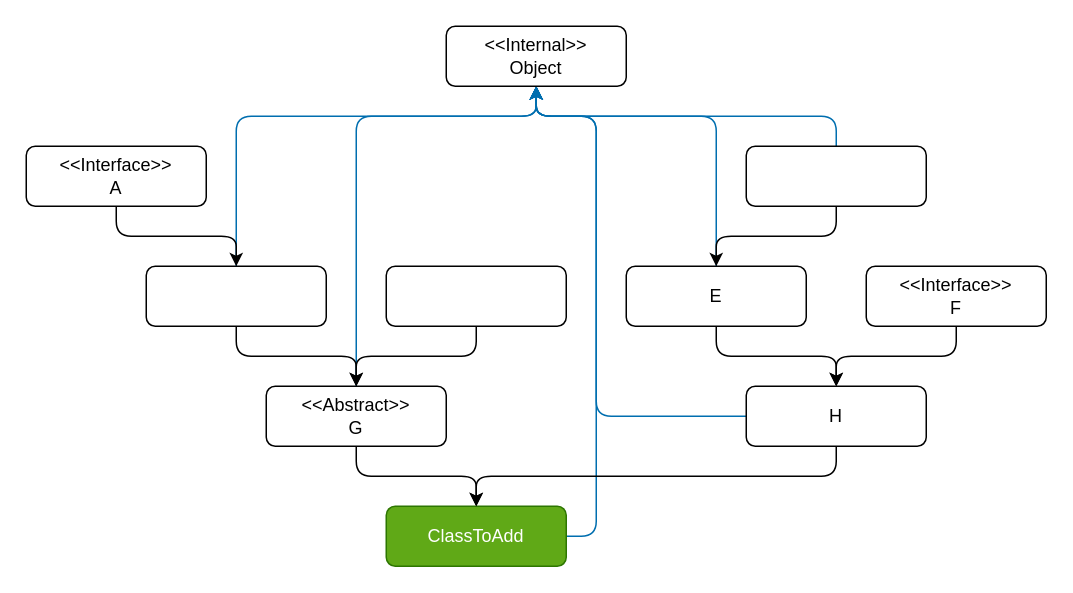
This 1073x593 diagram has some shape labels left out. The centre of each missing label's shape, as x and y in pixels:
"<<Abstract>> B" goes at pixel 835 175.
"<<Abstract>> C" goes at pixel 235 295.
"<<Interface>> D" goes at pixel 475 295.
